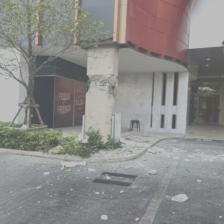High: (85, 64, 118, 113)
